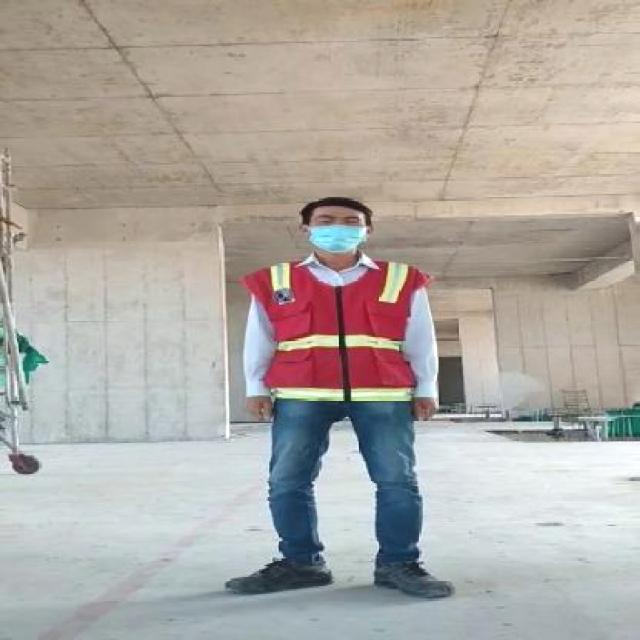face_mask: (308, 211, 367, 251)
hand_noglove: (408, 389, 448, 425), (243, 388, 280, 426)
head_helmet: (298, 188, 377, 218)
person: (219, 196, 458, 602)
shoes: (227, 554, 338, 598), (369, 557, 462, 603)
vest: (233, 253, 435, 405)
